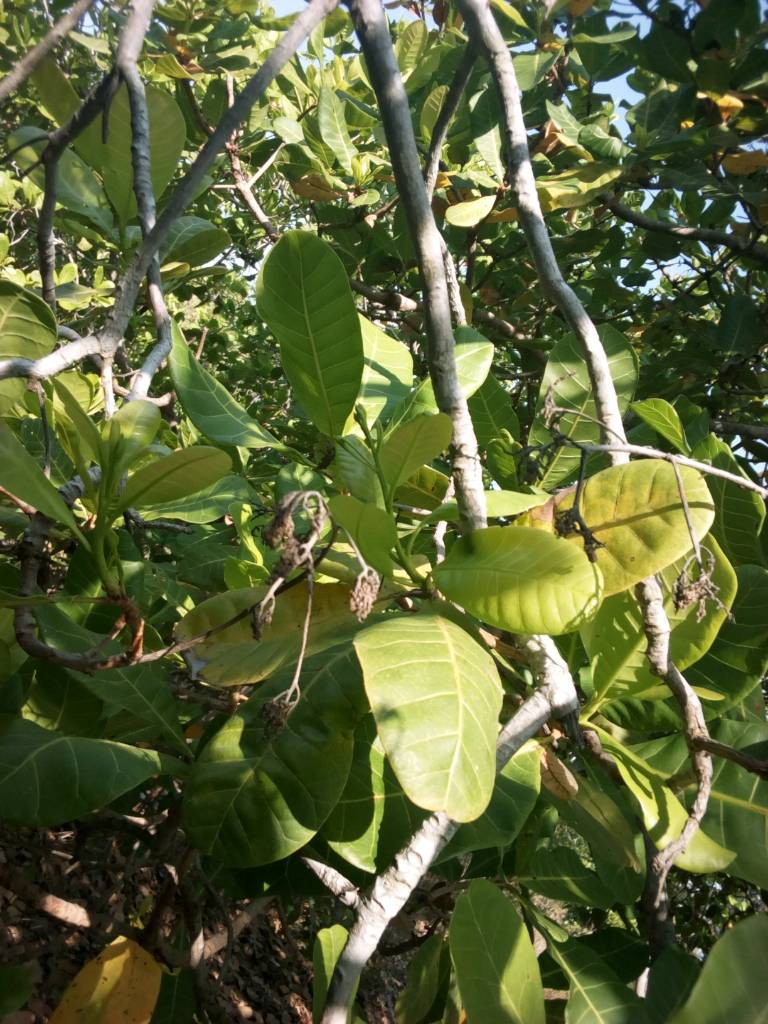Dessèchement des bourgeons: (247, 491, 316, 725), (677, 527, 722, 616), (557, 444, 588, 546), (346, 538, 379, 611)
